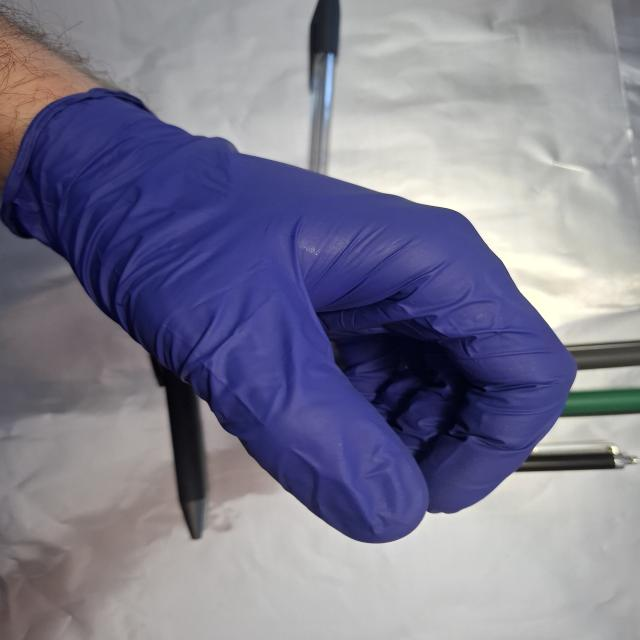glove_on: (11, 84, 580, 550)
